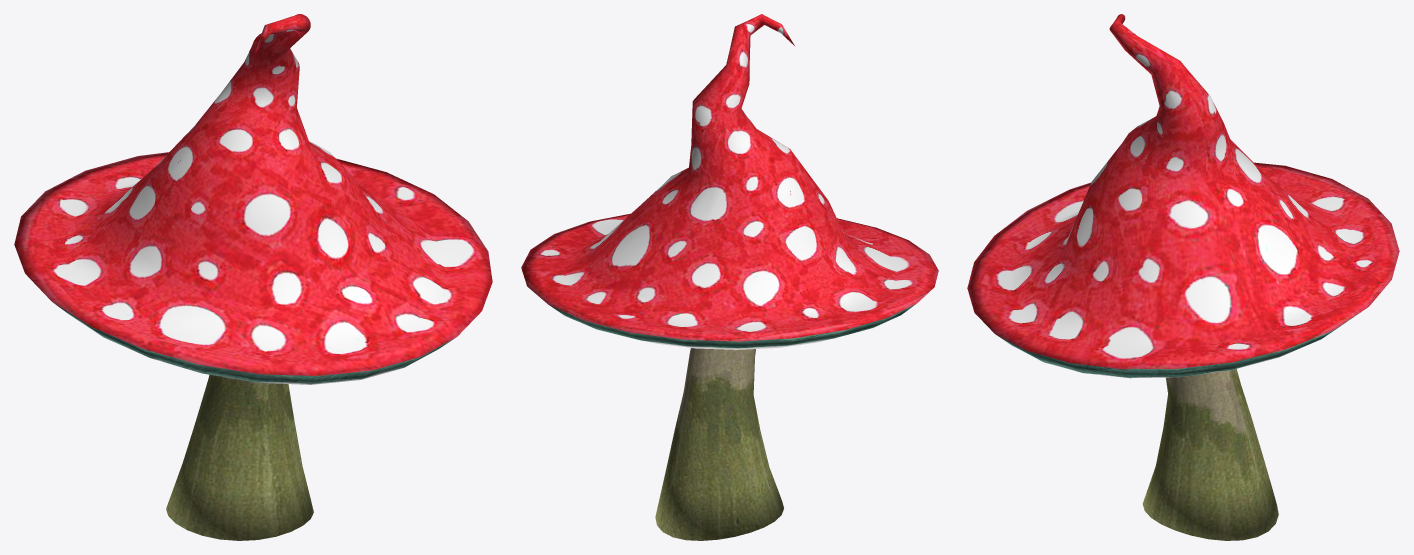
File: champipoison_mesh.fbx
The picture shows the model from 3 angles, left to right: view 1: azimuth 30°, elevation 25°; view 2: azimuth 150°, elevation 25°; view 3: azimuth 270°, elevation 25°; orthographic projection. The views are drawn at different scales.
Visible parts, largest first — view 1: champi poison; view 2: champi poison; view 3: champi poison.
Boxes of the visible parts, <box> form: champi poison: <box>14,14,492,540</box>; champi poison: <box>521,14,938,540</box>; champi poison: <box>967,14,1399,540</box>.
Size of the model in its own units: 77.91 by 96.8 by 76.44.
